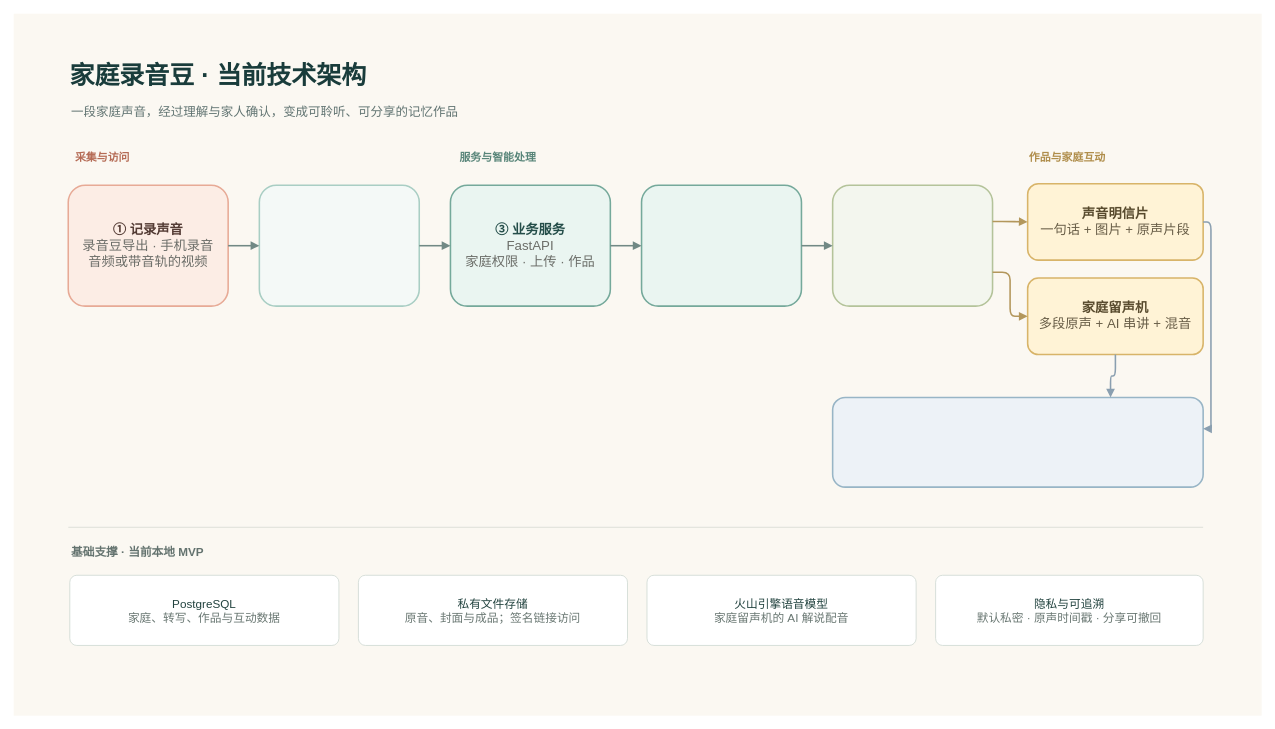
Some shapes in this 1275 by 729 pixel diagram are drawn without their labels. Here are the shapes that lost their labels. From the top down, the centre of each, then its label:
At point 339,245: "② Web 应用 React + TypeScript 上传 · 进度 · 作品页".
At point 721,245: "④ 声音理解 Celery + Redis 异步任务 FFmpeg · 本地 Whisper 转写 高光发现 Top 3".
At point 912,245: "⑤ 家人确认 校对文字和人物 保留片段 · 选择封面".
At point 1017,442: "⑥ 家庭互动与留存 聆听 · 点赞 · 评论 · 限时分享 按时间回看 · 回收站恢复".
